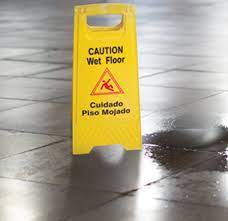wet caution sign: (69, 2, 144, 152)
